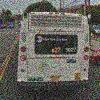buses: (18, 11, 89, 90)
